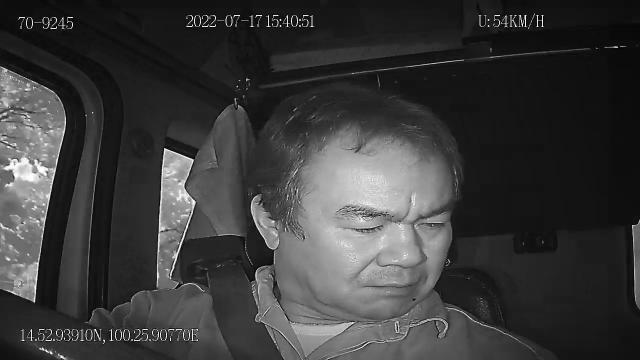SafeDriving: (332, 199, 391, 236), (406, 207, 454, 234)
Seatbelt: (204, 260, 286, 360)
